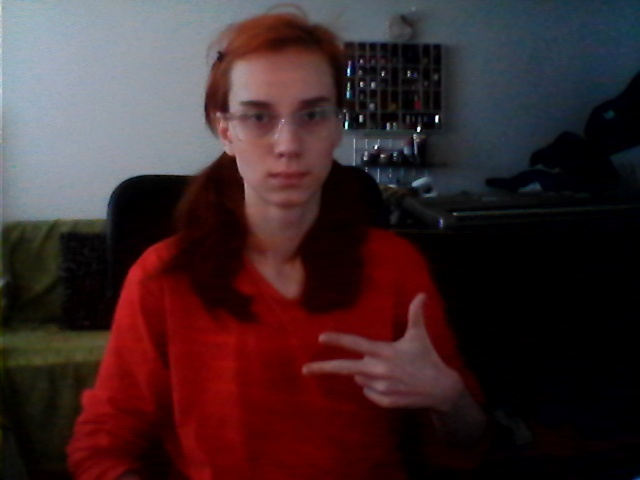tri: (298, 289, 460, 424)
